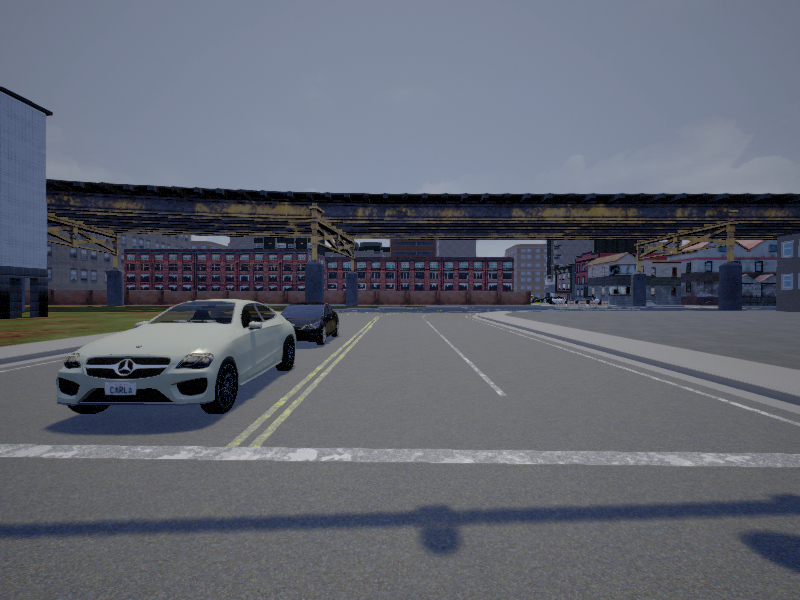Benign: (55, 297, 295, 416), (281, 302, 340, 345)
